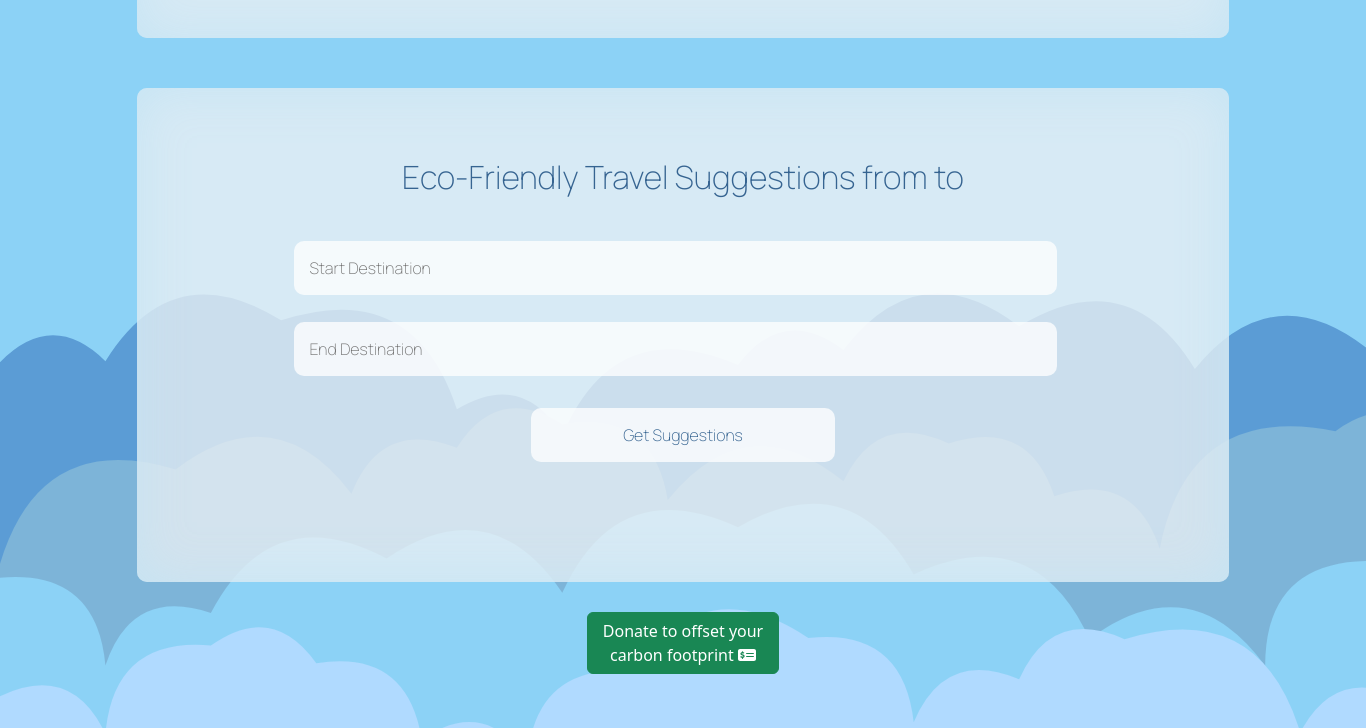
Test: Journey Page › donate modal should load correctly
(page scrolled)
Step 1. Click the button with test id "donate_button" → (683,644), box 587,612 -> 779,674
(page scrolled)
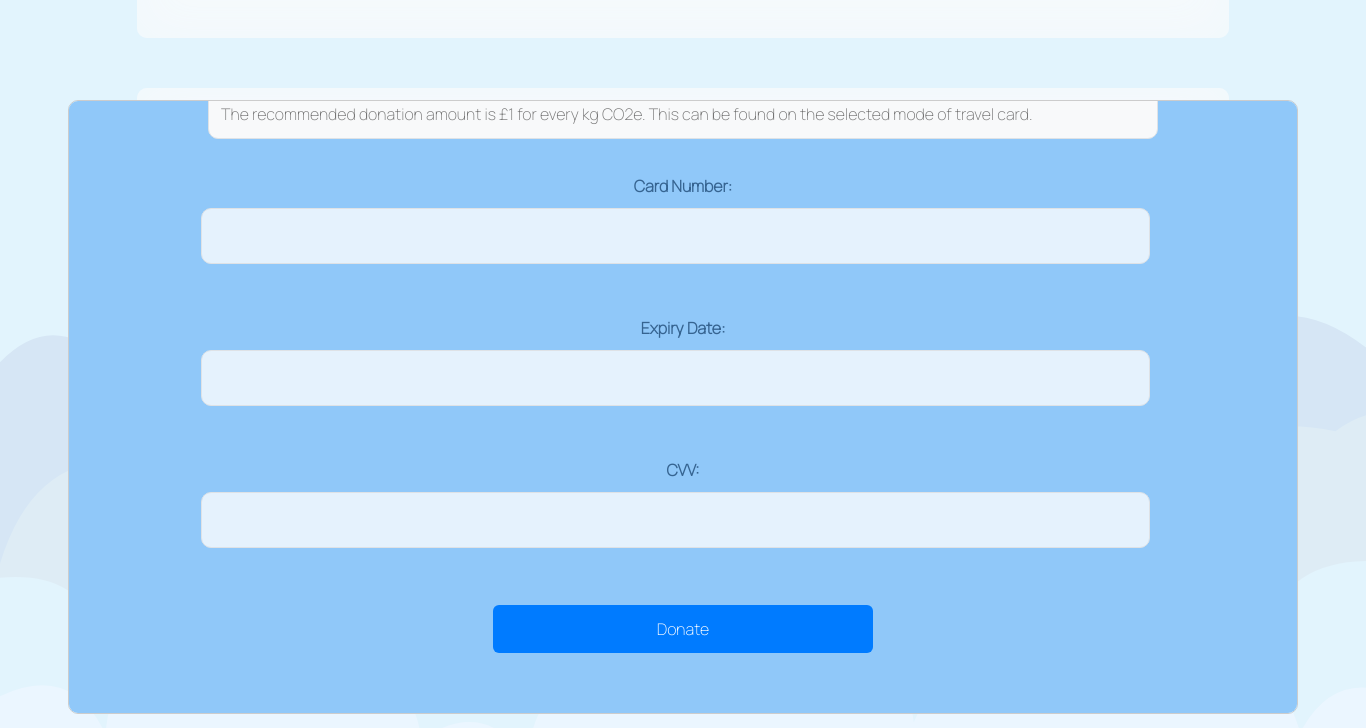
Expected: the number field with test id "amount_input" is shown, 208,100 -> 1158,139
Expected: the text "Card Number:" is shown, 634,175 -> 732,197
Expected: the field with test id "card_number_input" is shown, 200,208 -> 1150,264
